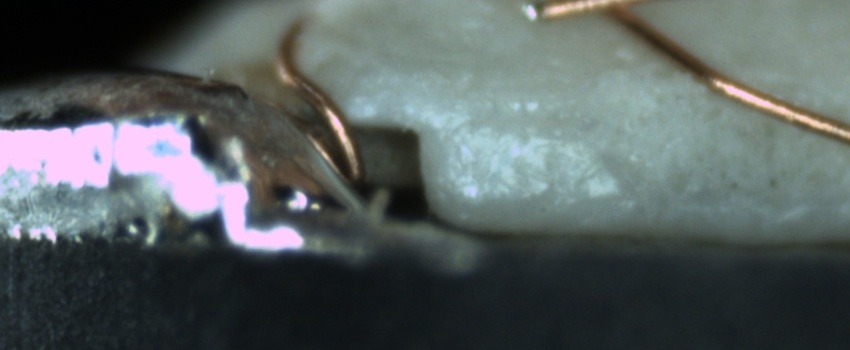DL: (447, 95, 597, 165)
